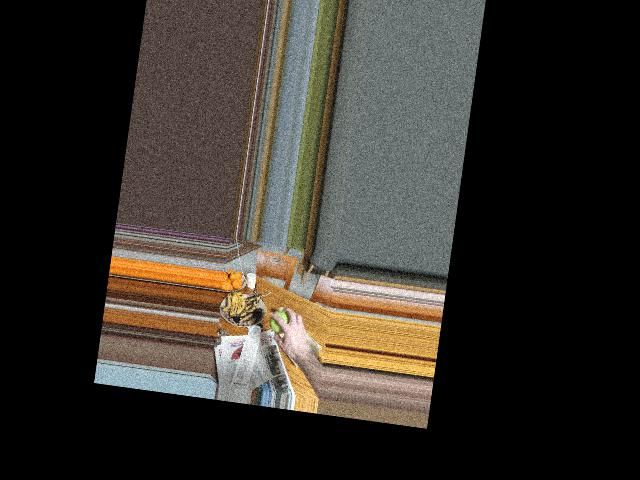apple: (267, 309, 294, 337)
